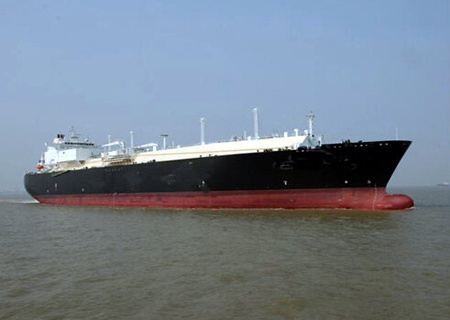Cargoship: (21, 118, 423, 210)
